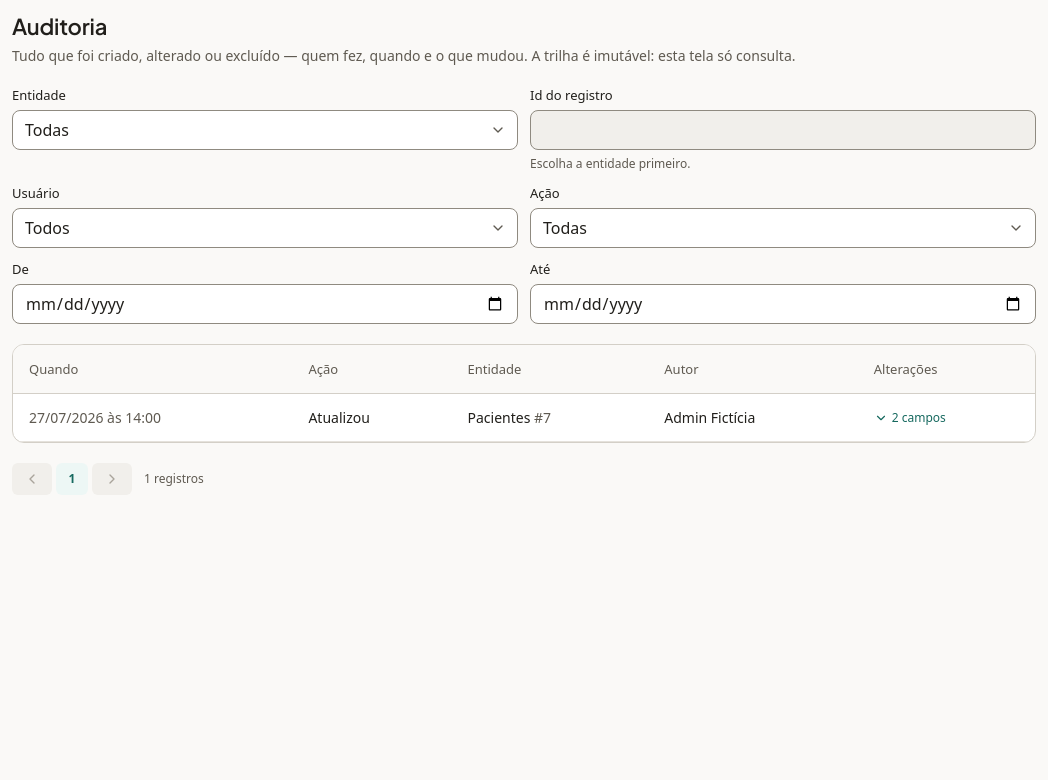
Test: deve expandir o diff e manter o mascarado como protegido
This screenshot has width=1048, height=780.
Click the button "2 campos" at (910, 418), box x1=874 y1=410 x2=946 y2=426
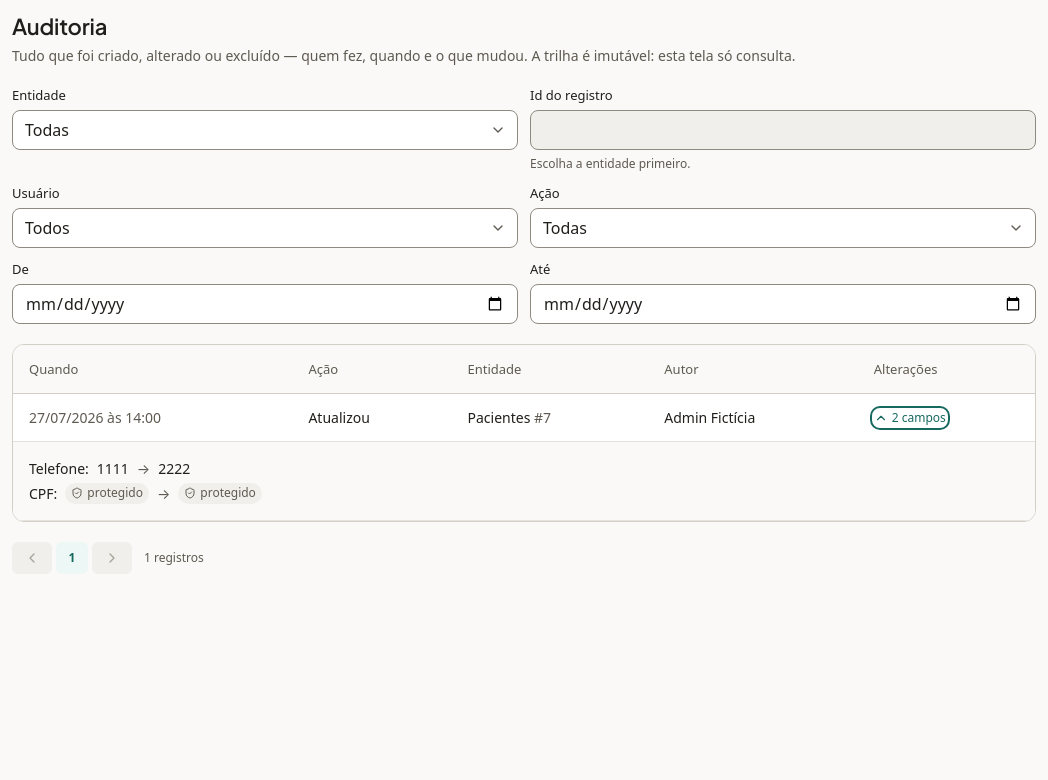
Result: the button "2 campos" is expanded at x1=874 y1=410 x2=946 y2=426
Result: the text "Telefone:" is shown at x1=29 y1=458 x2=89 y2=479
Result: the text "1111" is shown at x1=97 y1=458 x2=129 y2=479
